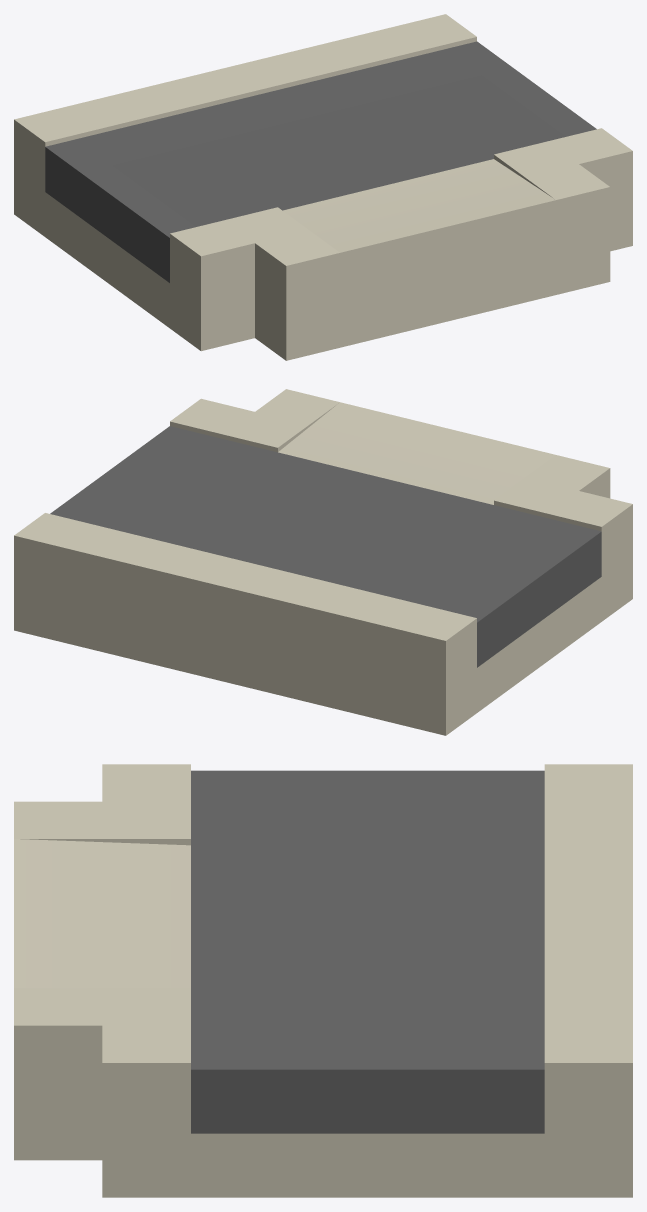
Rendered from tile156.fbx.
3 renders of one model, top to bottom at view 1: azimuth 30°, elevation 25°; view 2: azimuth 150°, elevation 25°; view 3: azimuth 270°, elevation 25°, orthographic. The views are drawn at different scales.
Parts seen in each view (by area): view 1: tile156; view 2: tile156; view 3: tile156.
Part boxes in pixels (x1,y1,x2,y2): tile156: (14, 14, 632, 360); tile156: (14, 389, 632, 735); tile156: (14, 764, 632, 1197).
Size of the model in its own units: 10 by 2.1 by 8.75.
